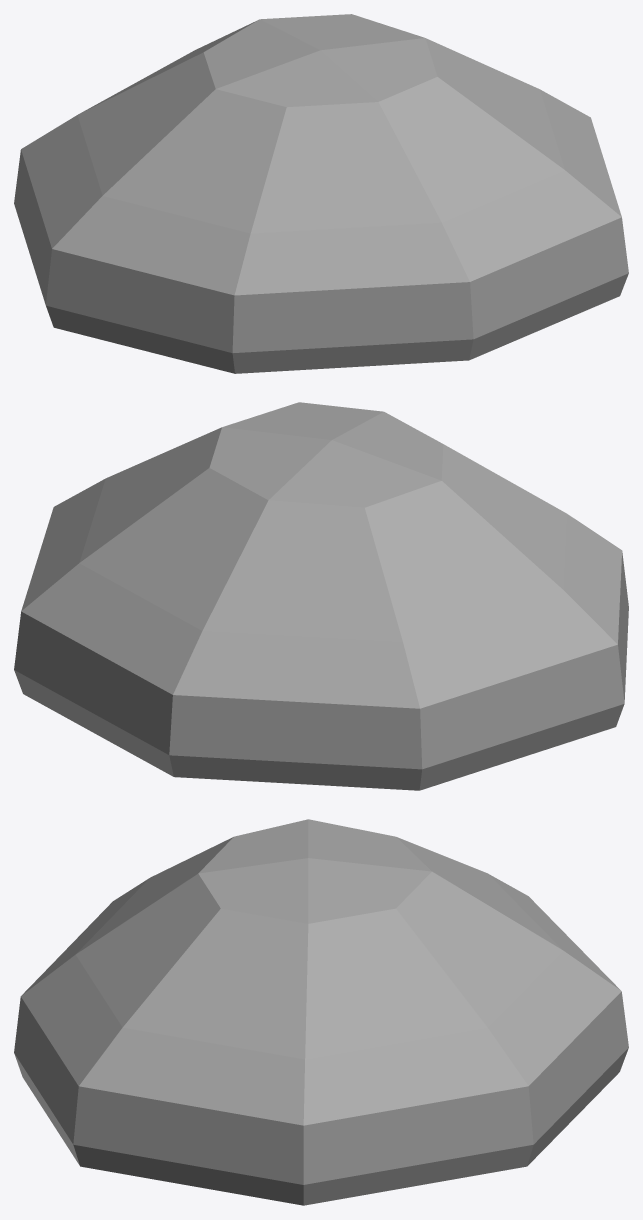
Rendered from circle_rock.glb.
The picture shows the model from 3 angles, top to bottom: view 1: azimuth 30°, elevation 25°; view 2: azimuth 150°, elevation 25°; view 3: azimuth 270°, elevation 25°; orthographic projection. The views are drawn at different scales.
Parts seen in each view (by area): view 1: CircleRock-col; view 2: CircleRock-col; view 3: CircleRock-col.
Part boxes in pixels (x1,y1,x2,y2): CircleRock-col: (14,14,628,373); CircleRock-col: (14,402,628,790); CircleRock-col: (14,819,628,1205).
Size of the model in its own units: 4.27 by 1.56 by 4.04.
Materials: 1 (1 with a texture image).
